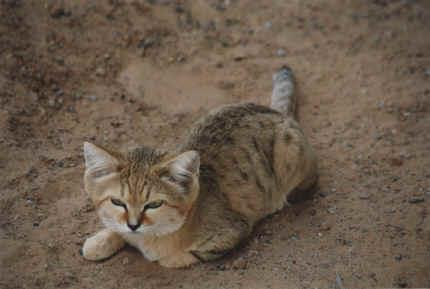cat: (75, 142, 206, 237)
